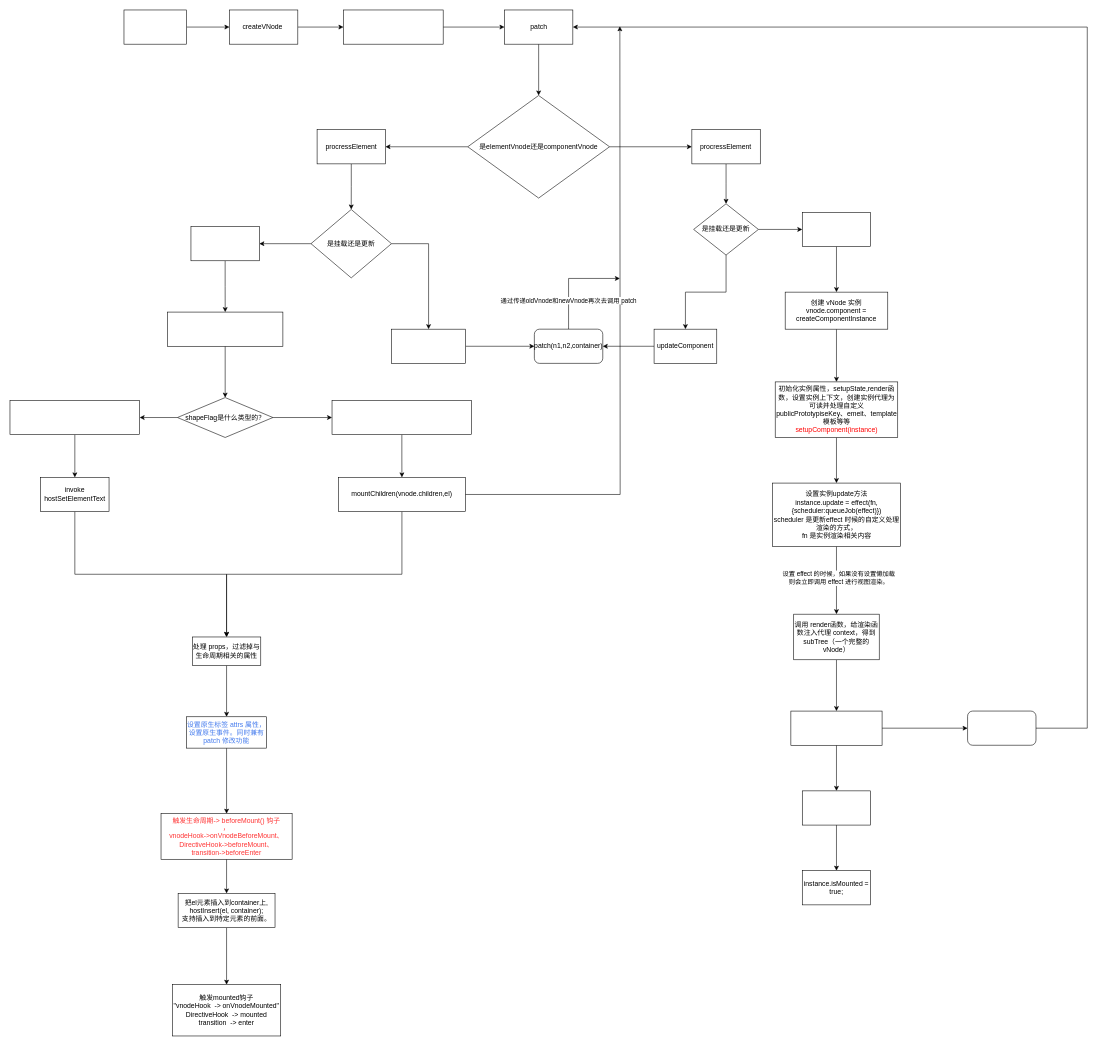
The diagram is 1102 pixels wide and 1046 high, and some of its shapes have lost their labels. Each missing label, with the centre of its shape:
createApp: (x=155, y=26)
mountComponent: (x=836, y=229)
mountElement: (x=224, y=243)
patch(null, subTree, container, instance);: (x=1001, y=728)
render(rootVnode,rootDom): (x=393, y=26)
updateElement: (x=428, y=346)
vnode.el=hostCreateElement: (x=225, y=329)
如果是shapeFlag&ShapeFlag.ARRAY_CHILDREN: (x=401, y=417)
如果是shapeFlag&ShapeFlag.Text_CHILDREN: (x=74, y=417)
触发 beforeMount hook 触发 onVnodeBeforeMount hook: (x=836, y=728)
触发 mounted hook: (x=836, y=807)
